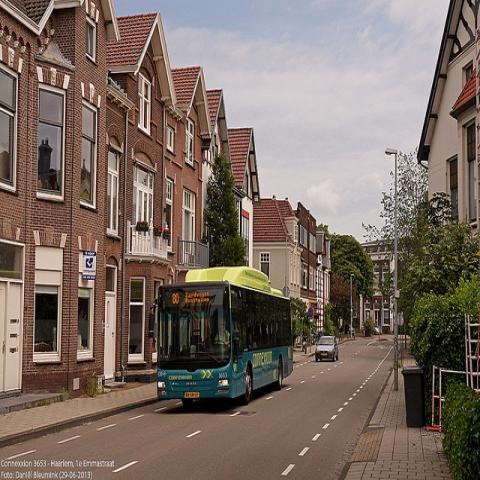bus: (150, 263, 295, 410)
car: (316, 335, 339, 363), (374, 328, 379, 334)
